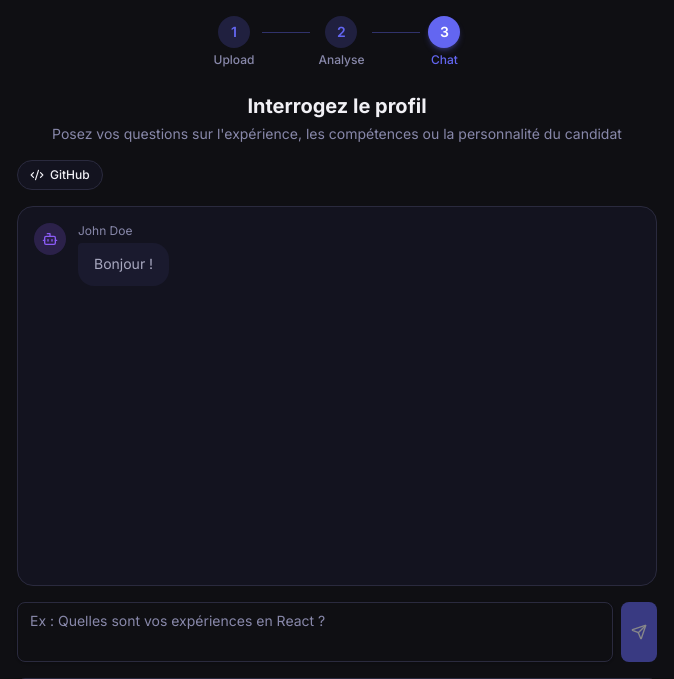
Scenario: HomePage — Step 3 (Chat) › send button becomes enabled when user types a message
The width and height of the screenshot is (674, 679).
Type "Test" into the text box with placeholder "Ex : Quelles sont vos expériences en React ?" at coordinates (315, 632), box [17,602,613,662]
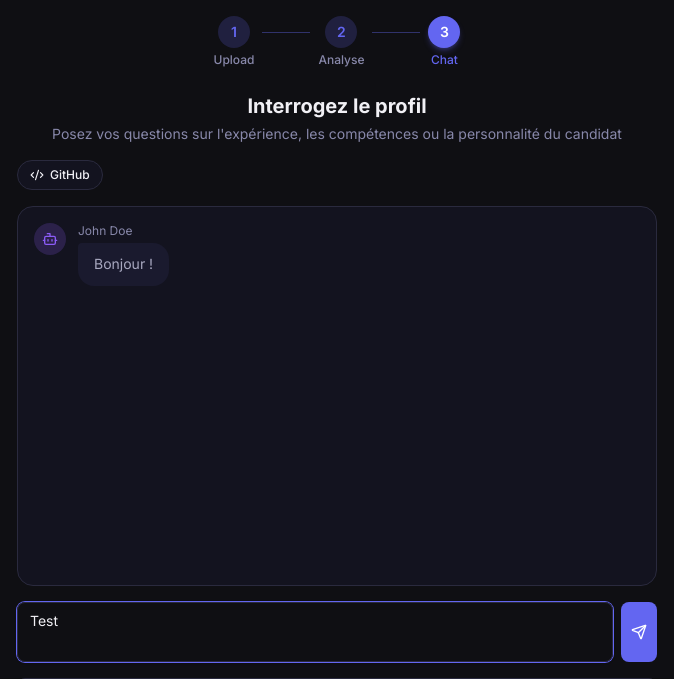
Expected: the button named "envoyer" is enabled, [621,602,657,662]
